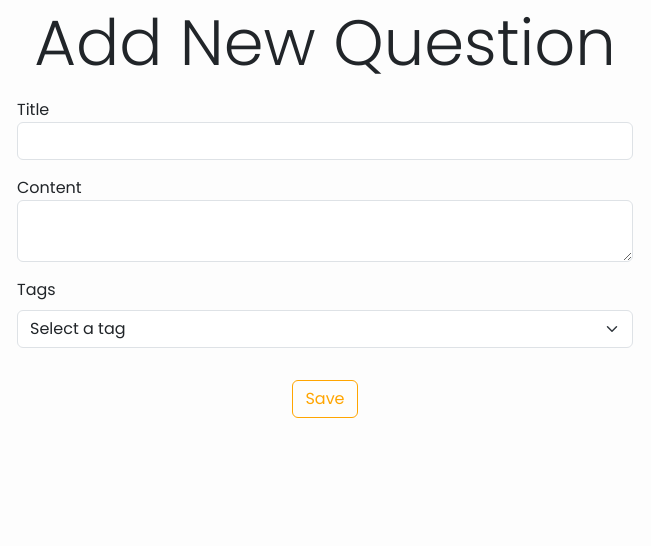
it: AddEditQuestion › displays an error alert when create fails
The width and height of the screenshot is (651, 546).
Type "Fail Q" into the field labelled "Title" at (325, 141), box [17,122,633,160]
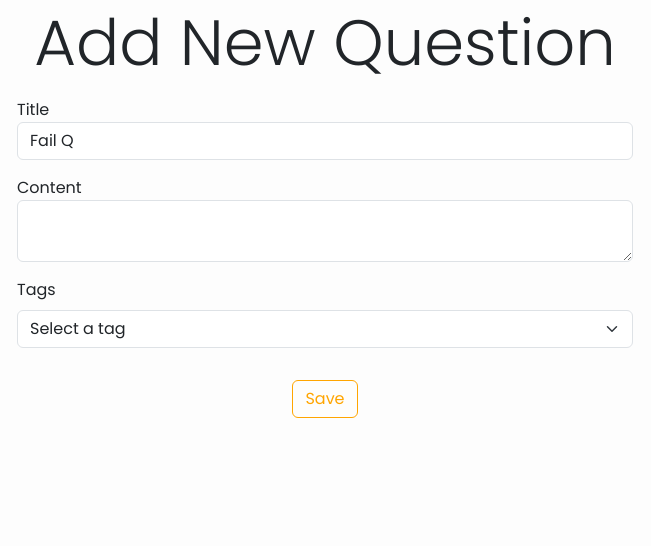
Type "Will fail" into the text box labelled "Content" at (325, 231), box [17,200,633,262]
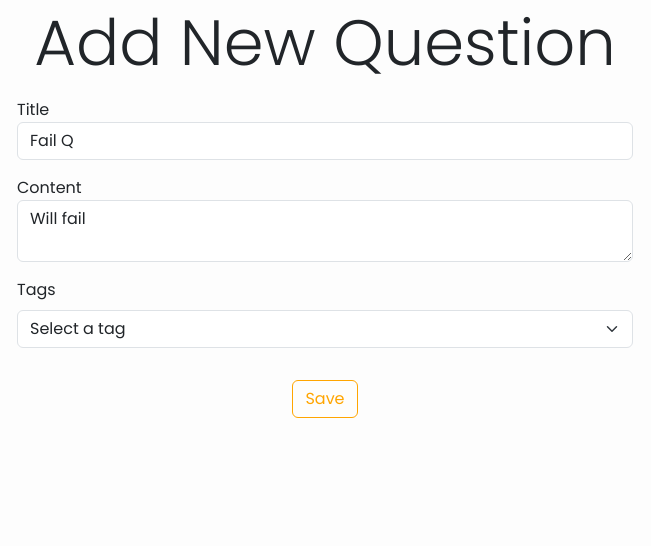
Click the button "Save" at (325, 399), box [292,380,358,418]
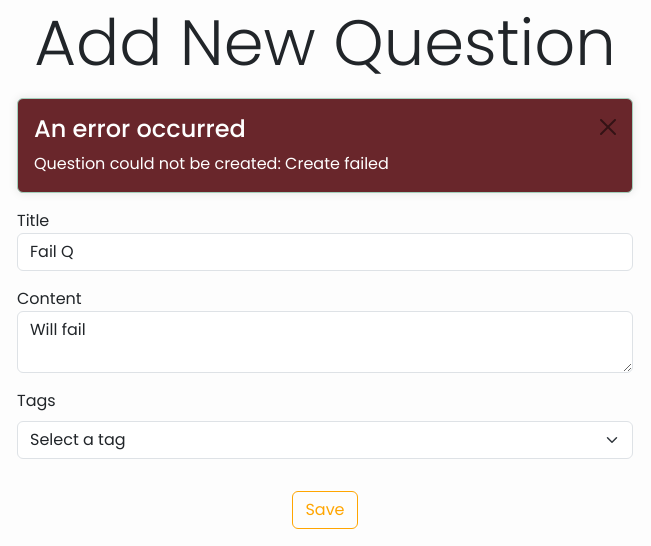
Expected: the text "An error occurred Question could not be created: Create failed" is shown, [17,98,633,193]
